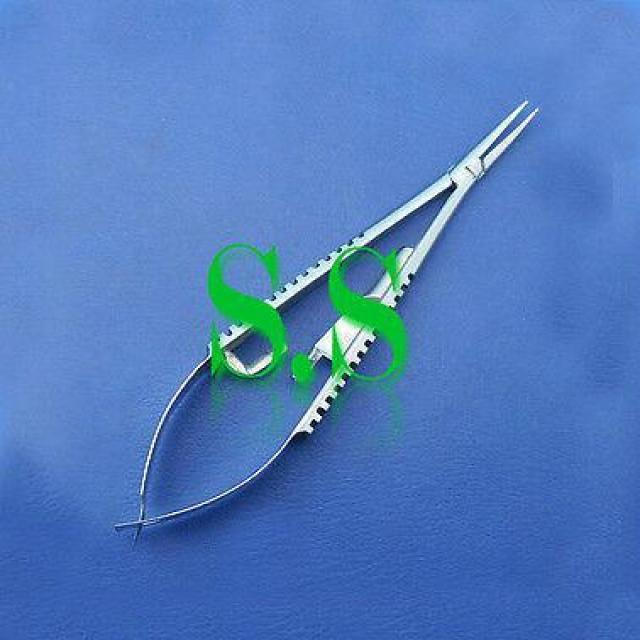Castroviejo: (109, 94, 538, 550)
